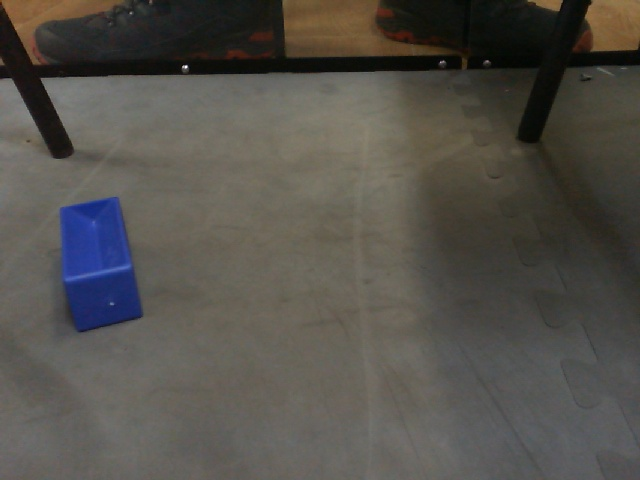BlueSample: (57, 189, 147, 340)
